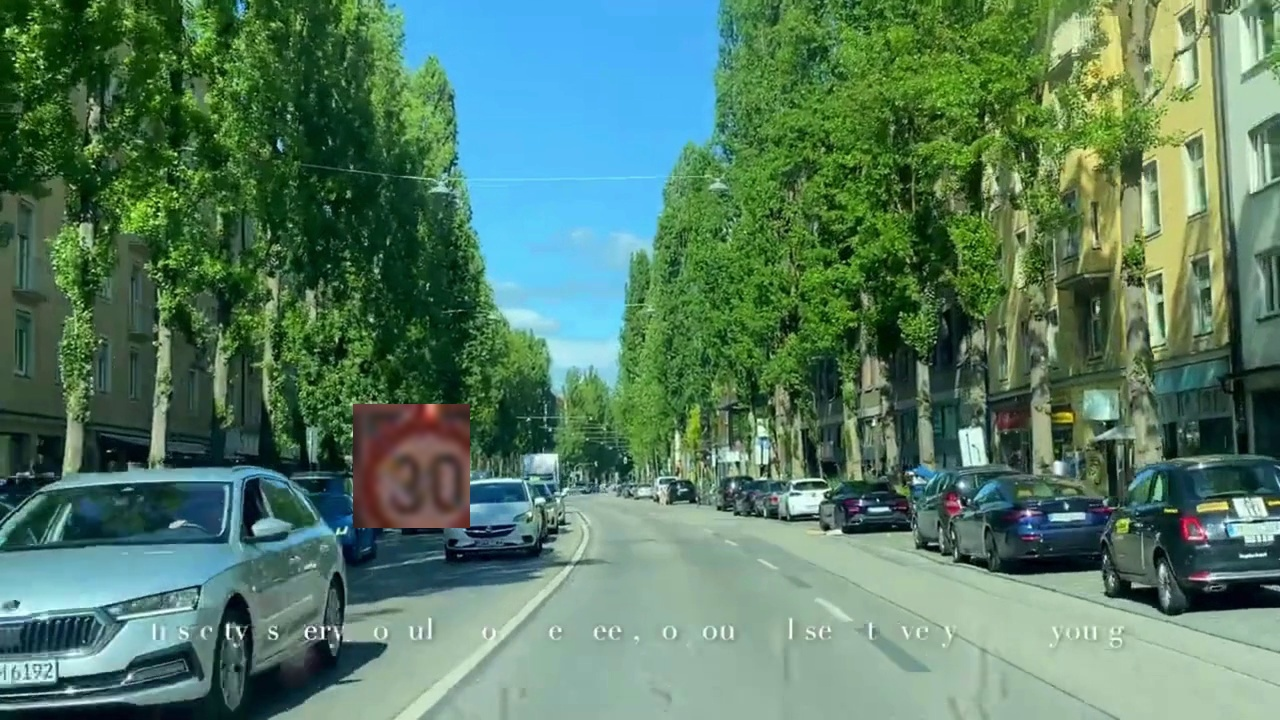Speed 30: (353, 404, 470, 528)
